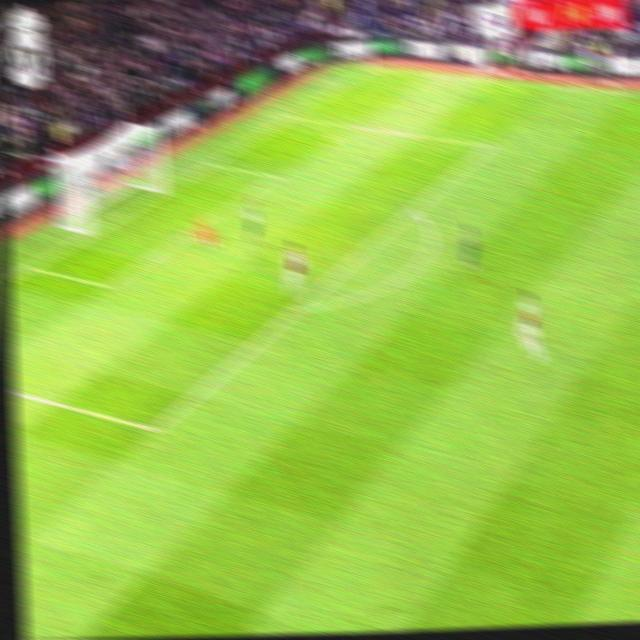bigarea_bottom_inner: (144, 419, 164, 441)
bigarea_top_inner: (481, 136, 496, 153)
bigarea_top_outter: (284, 110, 297, 122)
bottom_arc_area_intersection: (287, 300, 304, 317)
corner: (363, 64, 382, 74)
smallarea_bottom_inner: (100, 278, 115, 294)
smallarea_bottom_outter: (20, 260, 37, 275)
smallarea_top_inner: (267, 168, 283, 184)
smallarea_top_outter: (202, 158, 219, 171)
top_arc_area_intersection: (406, 202, 421, 218)
